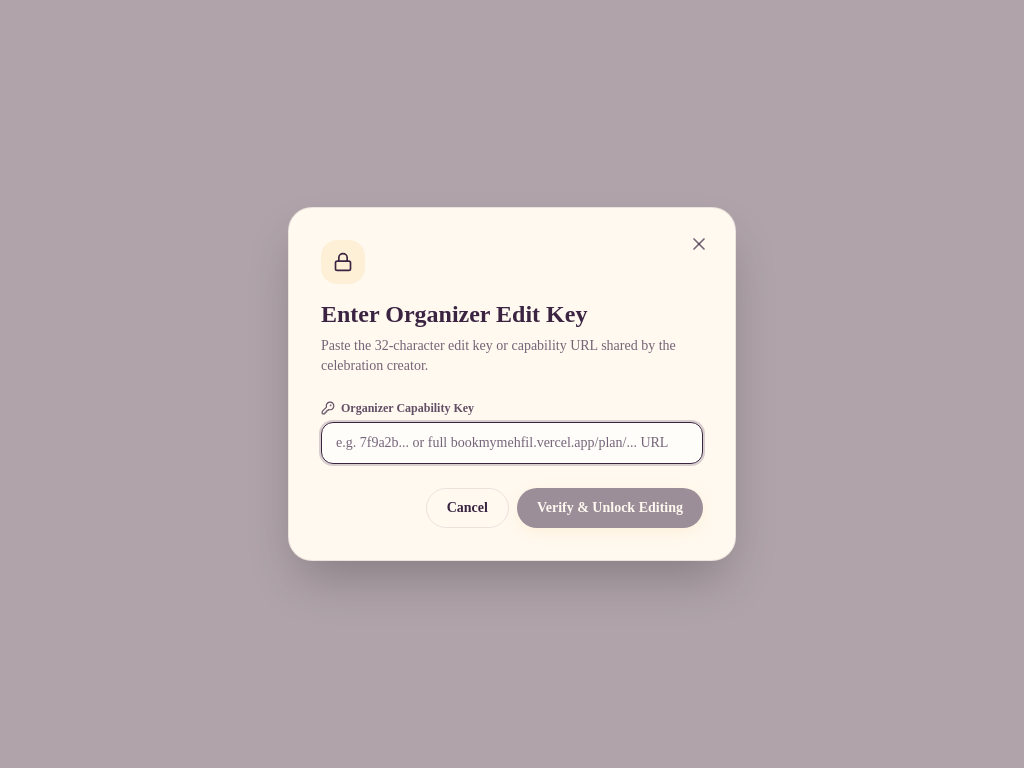
Test: Capability Router & Read-Only Downgrade (D-02, D-03, D-04, COLLAB-02) › displays inline error message when an invalid key is submitted
The width and height of the screenshot is (1024, 768).
In the field with placeholder "e.g. 7f9a2b... or full bookmymehfil.vercel.app/plan/... URL": (512, 443) [321,422,703,464], type "wrongtoken123"
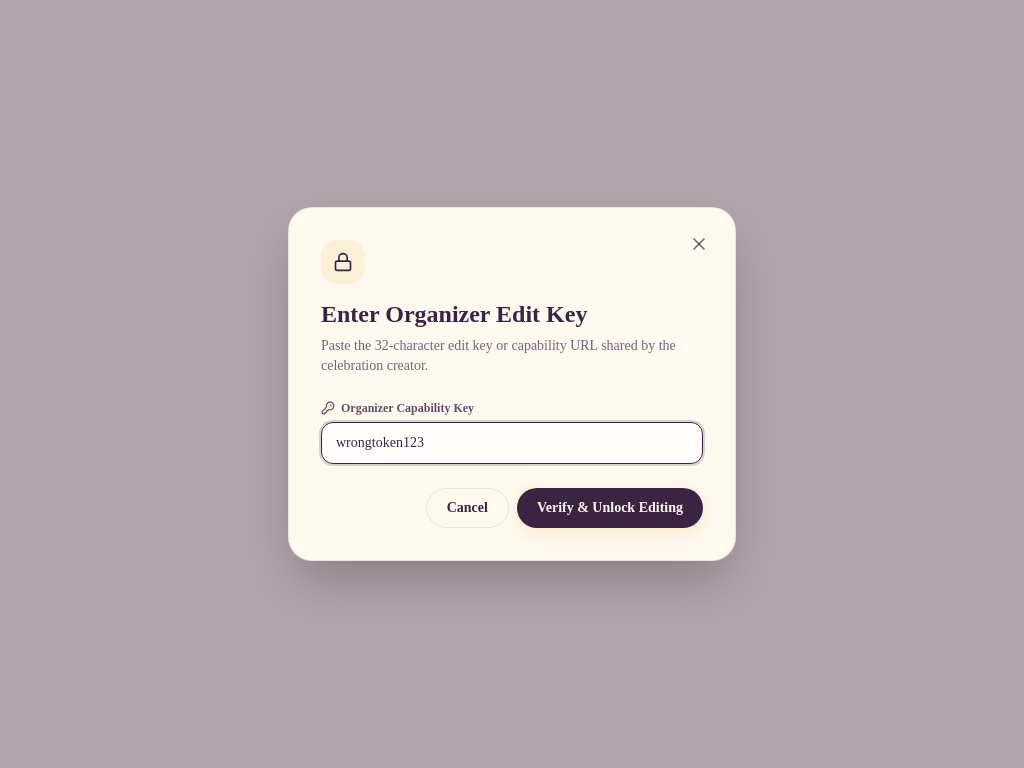
Click the button "Verify & Unlock Editing": (610, 508) [517,488,703,528]
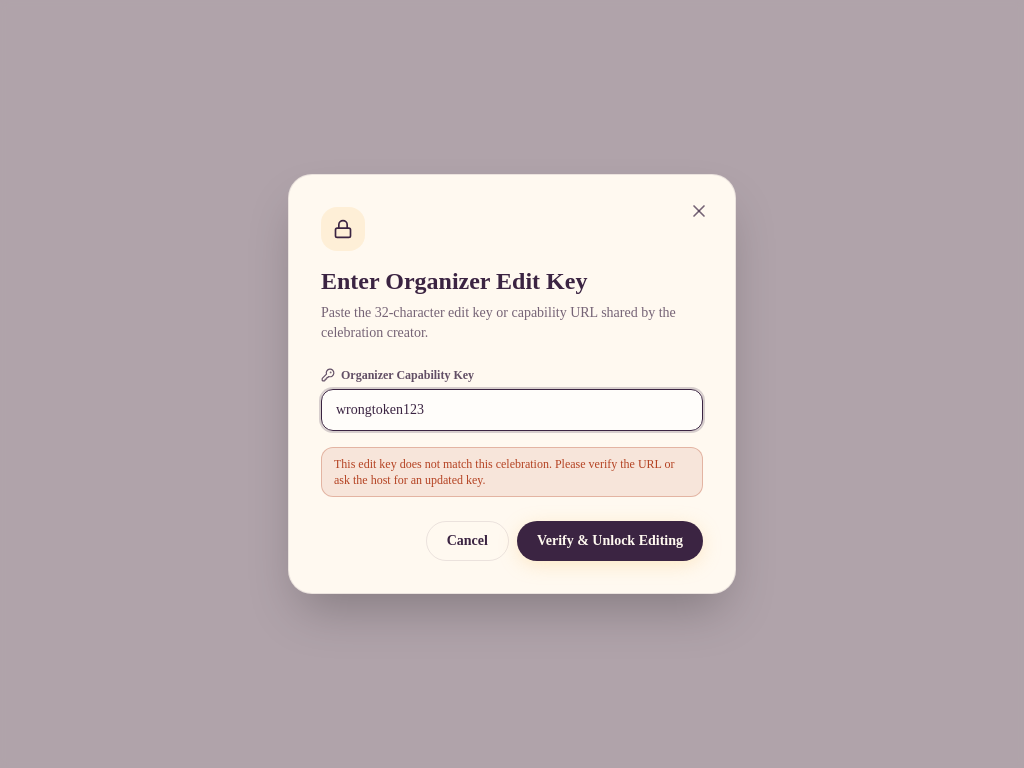
Expected: the text "This edit key does not match this celebration. Please verify the URL or ask the host for an updated key." is shown, [334,457,674,487]
